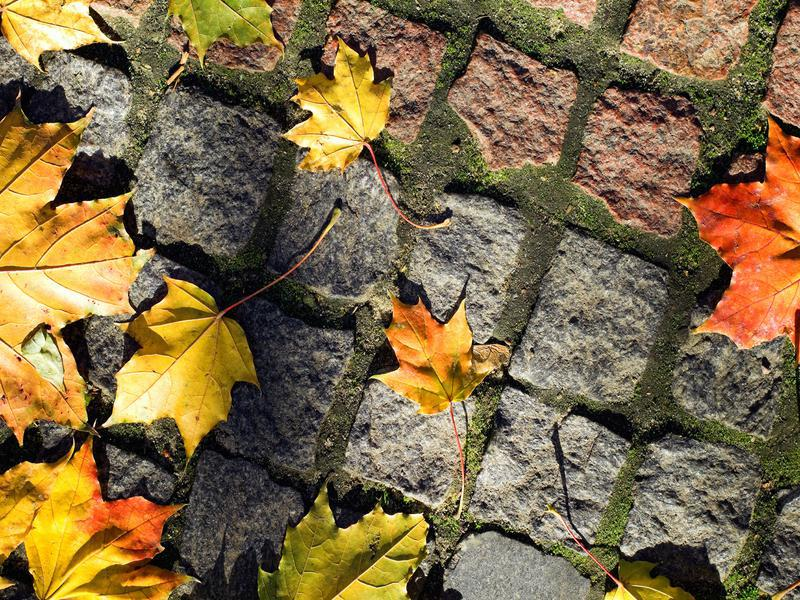leaf: (352, 283, 531, 520), (644, 114, 800, 367), (273, 37, 460, 232), (99, 263, 280, 464), (237, 480, 437, 600)
